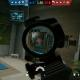Character: (39, 40, 42, 46)
Friend_label: (0, 50, 3, 53)
